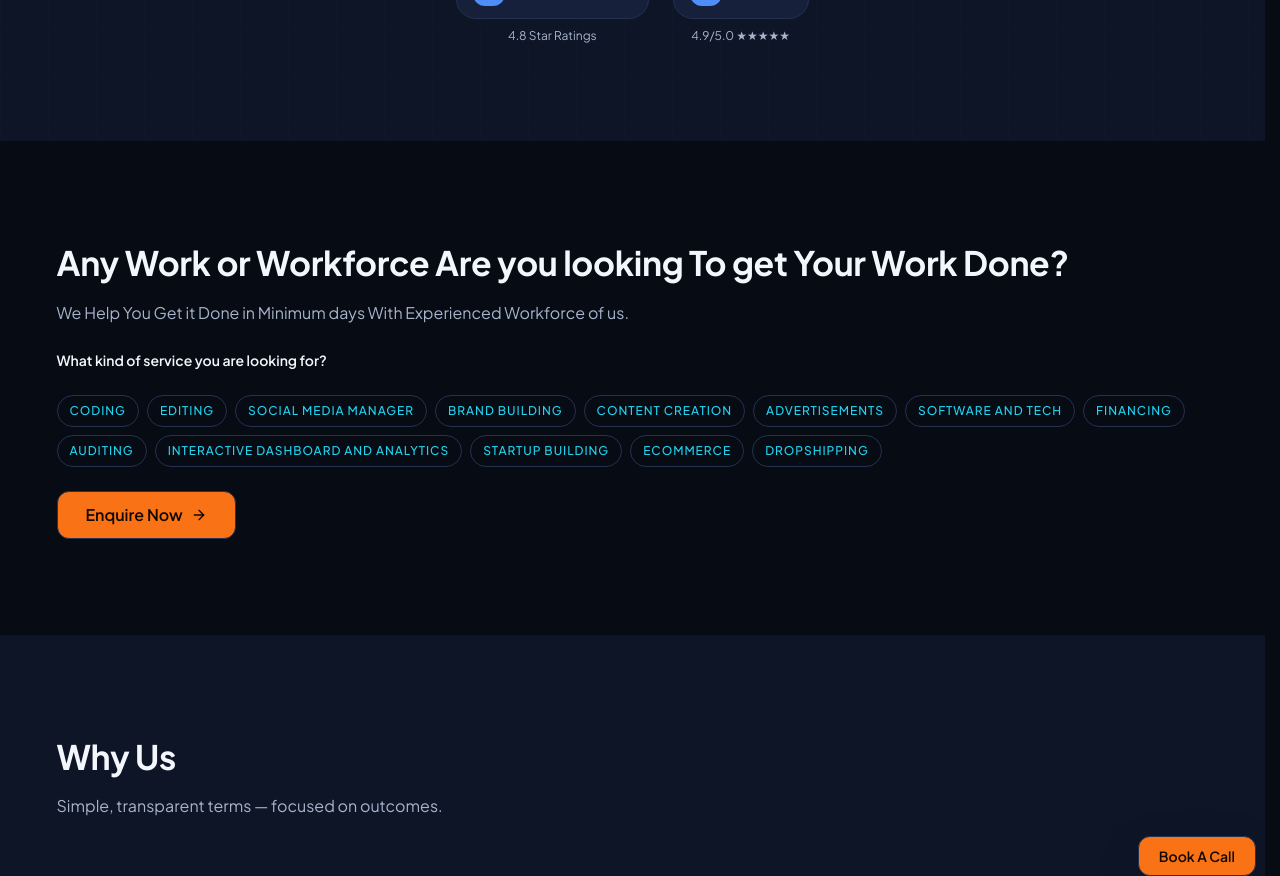
Test: /home-old service selector › shows the selected-service feedback only after a chip is activated
This screenshot has width=1280, height=876.
(page scrolled)
Check: the text "Selected:" is not shown
Click the button "Auditing".
click(102, 451)  # box [56, 435, 147, 467]
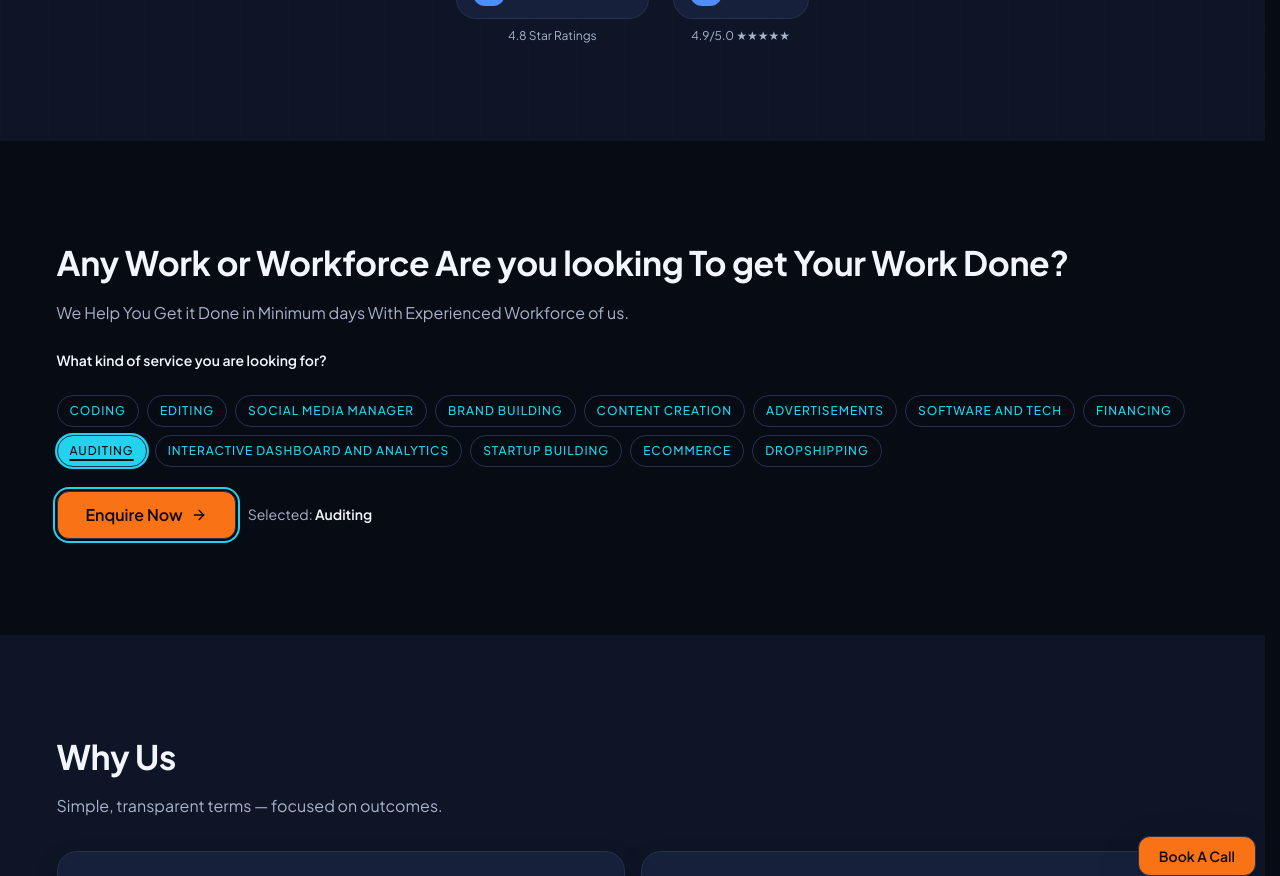
Check: the element showing "Selected: Auditing" is shown, box [248, 504, 372, 525]
